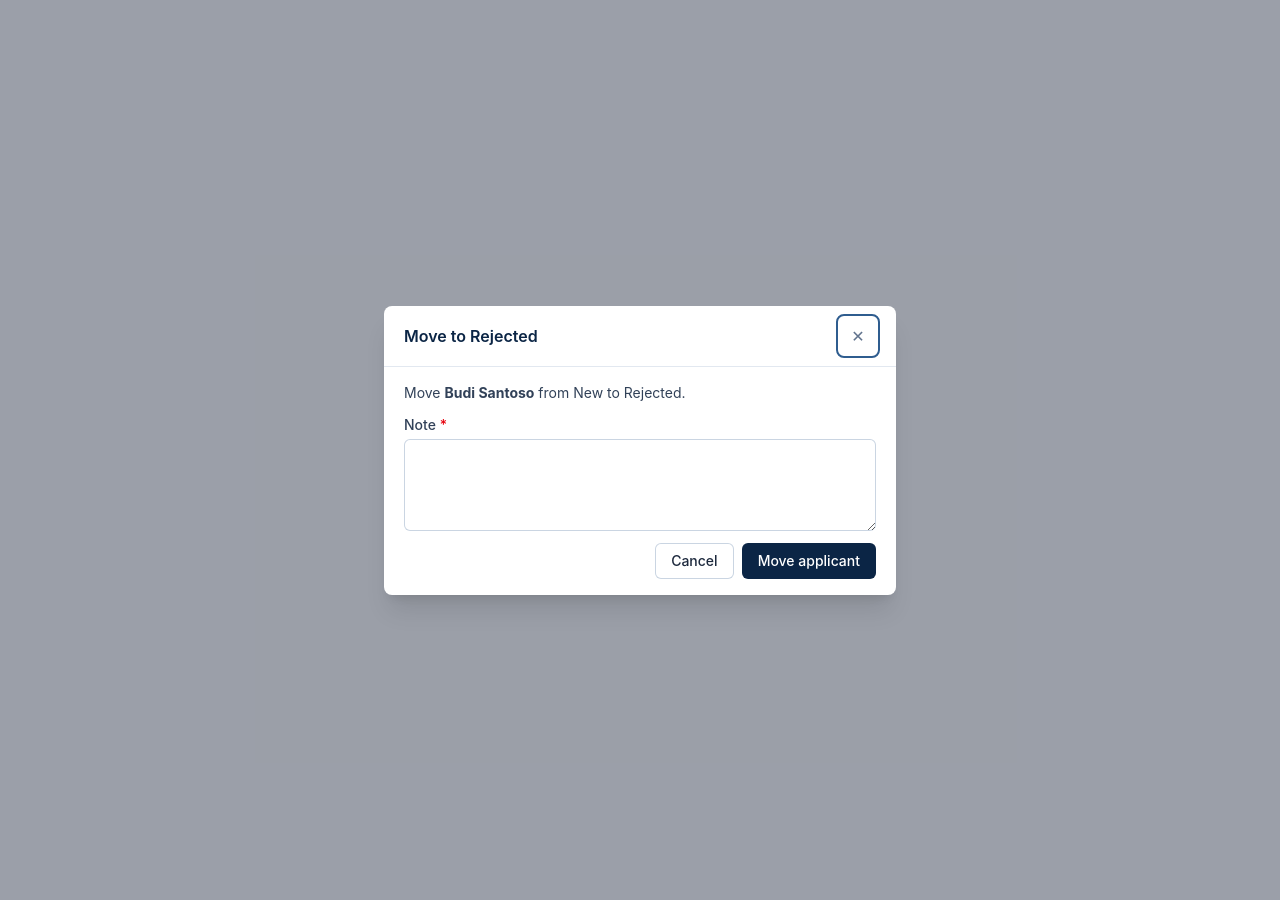
Test case: StageMoveDialog › requires a note when rejecting an applicant
Click the button "Move applicant" at (809, 560), box [742, 542, 876, 578]
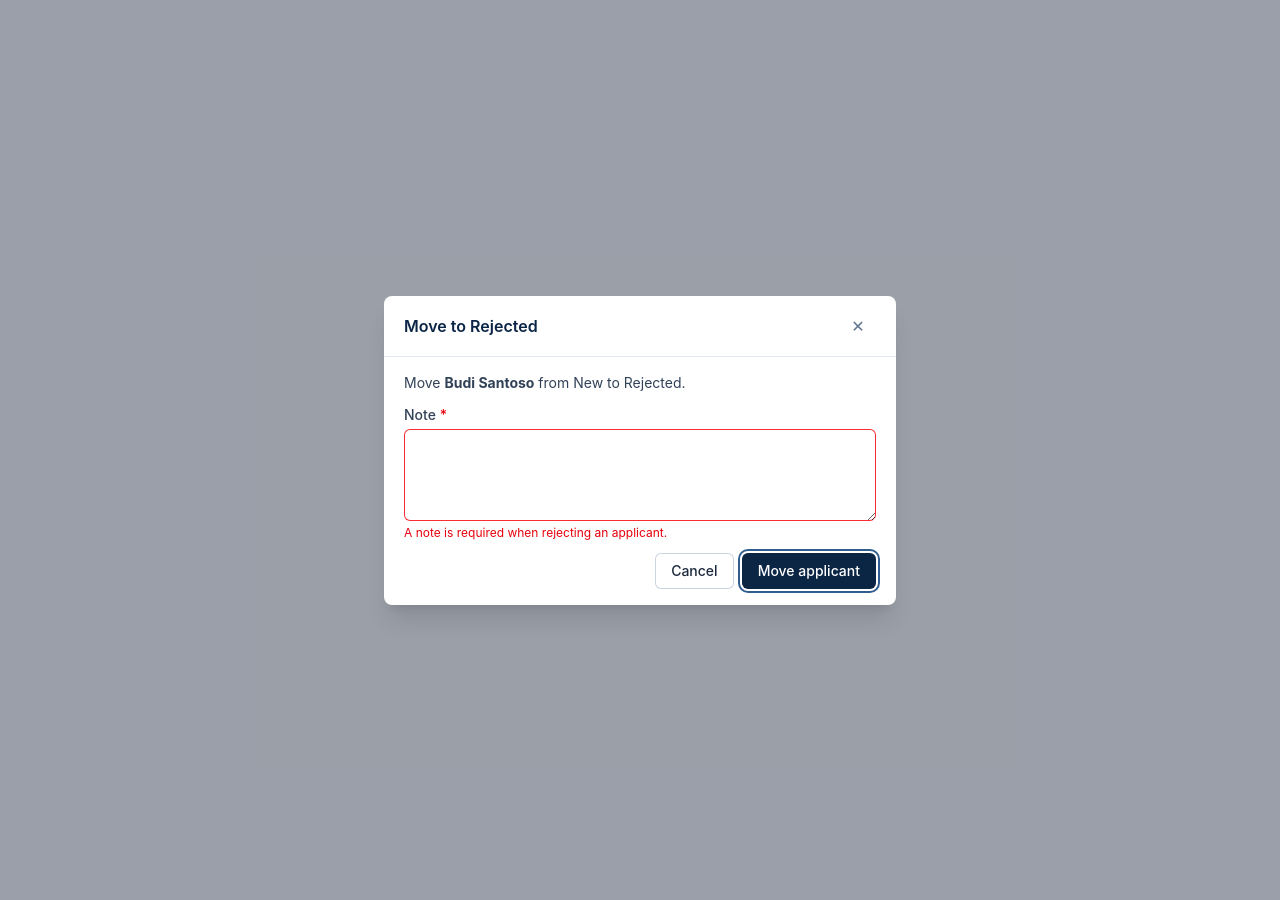
Expected: the message reads "A note is required when rejecting an applicant.", [404, 524, 667, 540]
